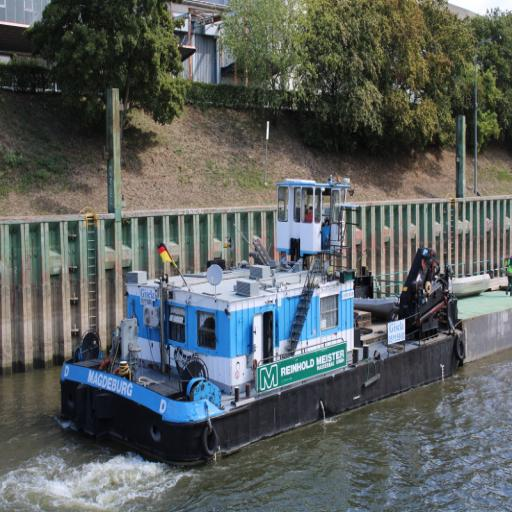tugboat: (55, 177, 473, 475)
